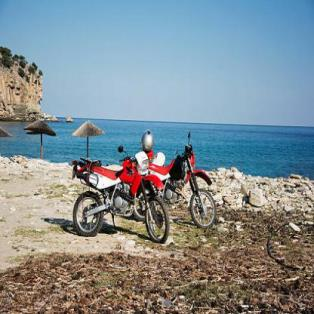Motocicleta: (72, 145, 172, 250), (150, 127, 219, 227)
